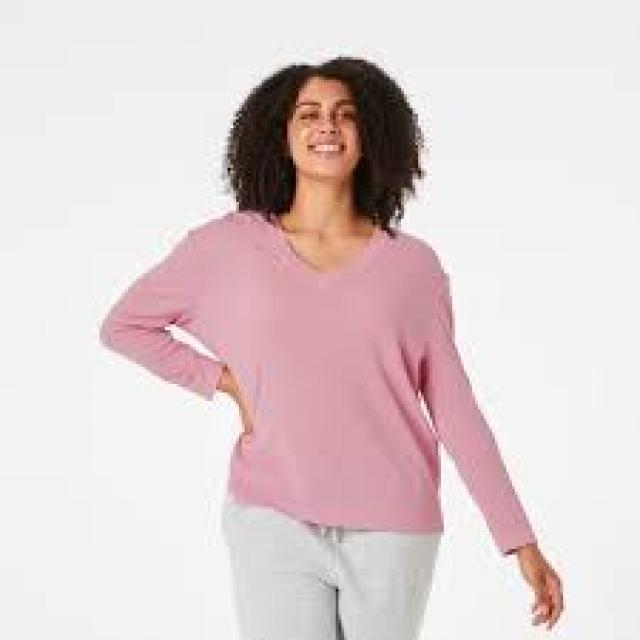plain: (105, 215, 492, 536)
